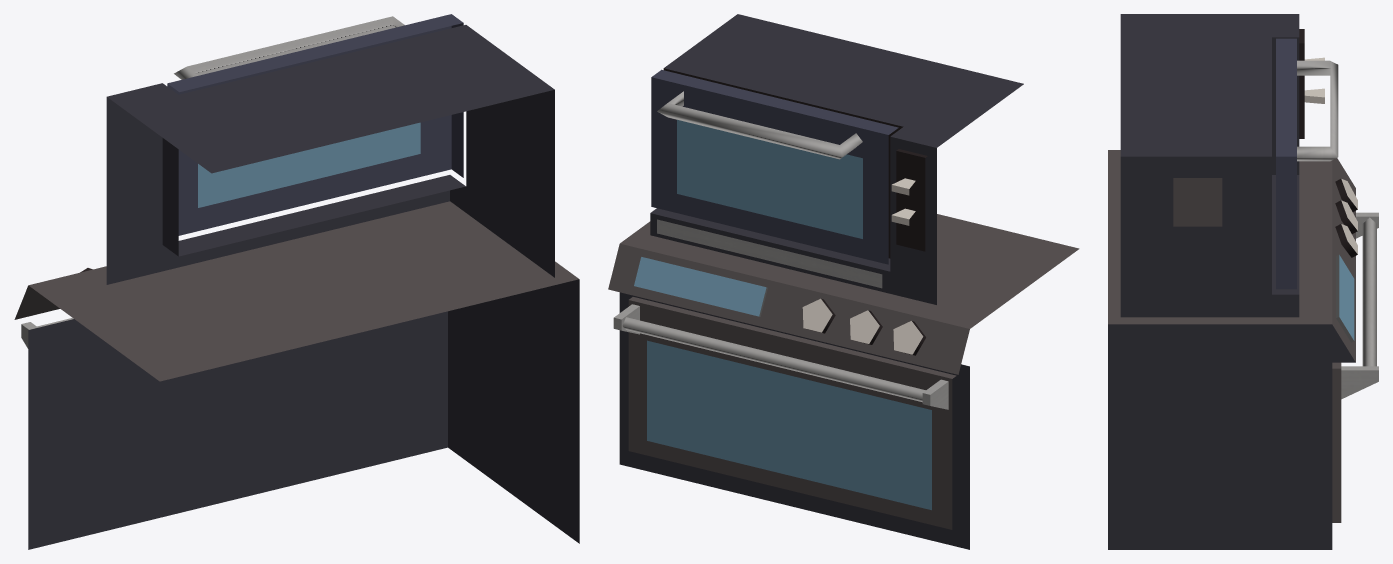
Rendered from interior_B_004.fbx.
3 renders of one model, left to right at view 1: azimuth 30°, elevation 25°; view 2: azimuth 150°, elevation 25°; view 3: azimuth 270°, elevation 25°, orthographic. The views are drawn at different scales.
Visible parts, largest first — view 1: interior_B_004; view 2: interior_B_004; view 3: interior_B_004.
Part boxes in pixels (left/top/right/bottom): interior_B_004: left=14, top=14, right=579, bottom=549; interior_B_004: left=608, top=14, right=1079, bottom=549; interior_B_004: left=1108, top=14, right=1378, bottom=549.
Size of the model in its own units: 121 by 125 by 79.59.
Materials: 8 (1 with a texture image).
